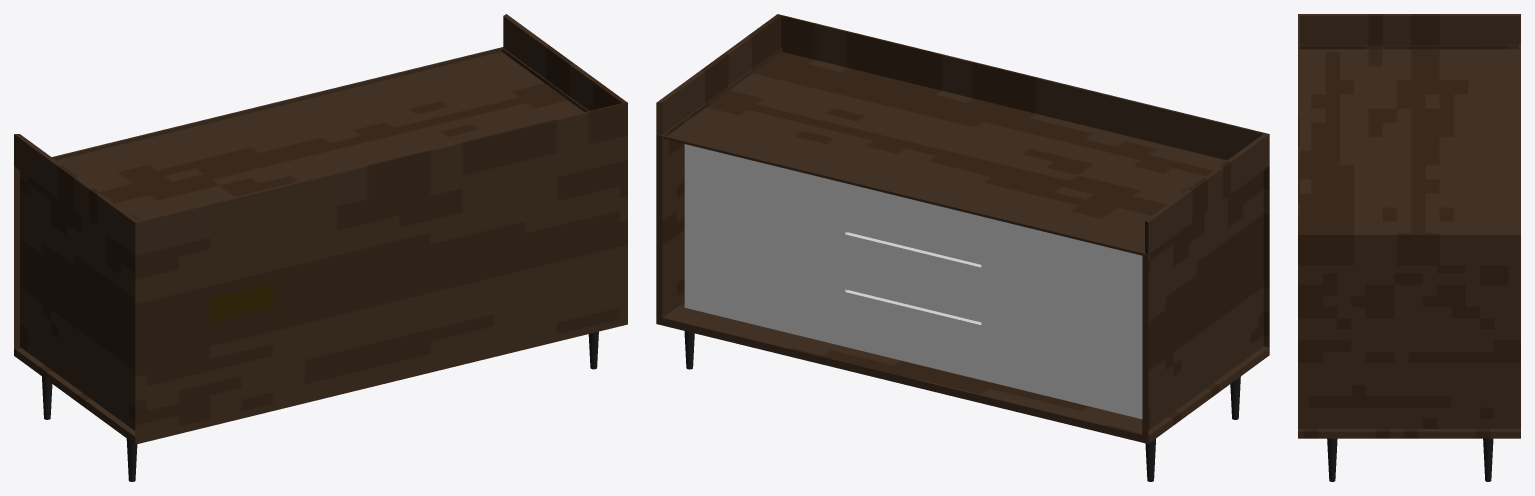
File: meuble.glb
3 views of the same model, side by side, from view 1: azimuth 30°, elevation 25°; view 2: azimuth 150°, elevation 25°; view 3: azimuth 270°, elevation 25° (orthographic). The views are drawn at different scales.
Visible parts, largest first — view 1: Meuble-tiroir, Pieds; view 2: Meuble-tiroir, Tiroir.001, Tiroir, Tiroir.002, Pieds; view 3: Meuble-tiroir, Pieds.
Part boxes in pixels (x1,y1,x2,y2): Meuble-tiroir: [14, 14, 627, 444]; Pieds: [42, 331, 598, 481]; Meuble-tiroir: [656, 14, 1269, 443]; Tiroir.001: [981, 216, 1142, 419]; Tiroir: [684, 144, 847, 346]; Tiroir.002: [843, 183, 981, 379]; Pieds: [684, 331, 1240, 481]; Meuble-tiroir: [1298, 14, 1520, 438]; Pieds: [1327, 438, 1493, 481].
Bounding box in the file's own units: 12.59 × 6.72 × 5.37.
3 materials, 1 textured.
